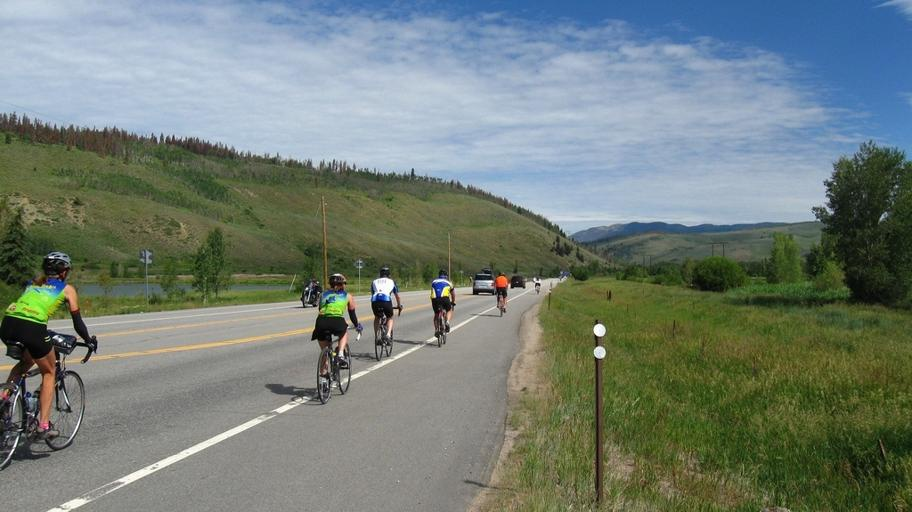non-vehicle: (0, 331, 98, 472), (316, 321, 362, 403), (373, 304, 403, 361), (433, 302, 456, 348), (496, 290, 505, 317), (535, 284, 539, 294)
